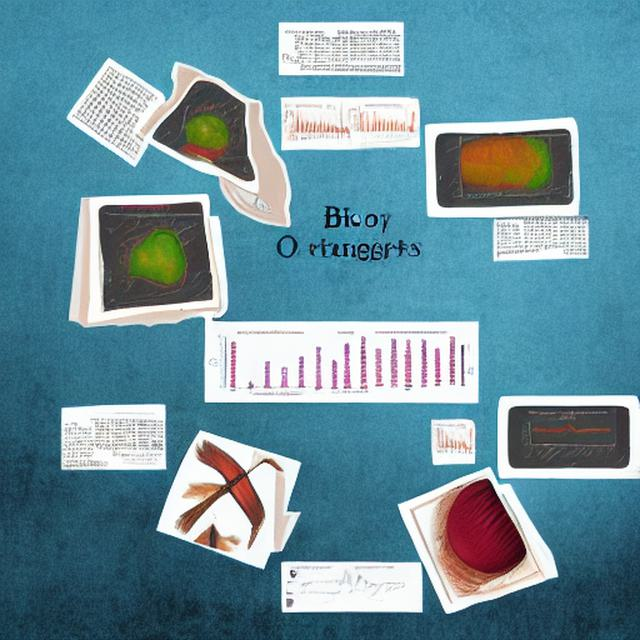Graph: (205, 327, 330, 400), (517, 409, 617, 468), (341, 564, 408, 605), (351, 104, 416, 142)
